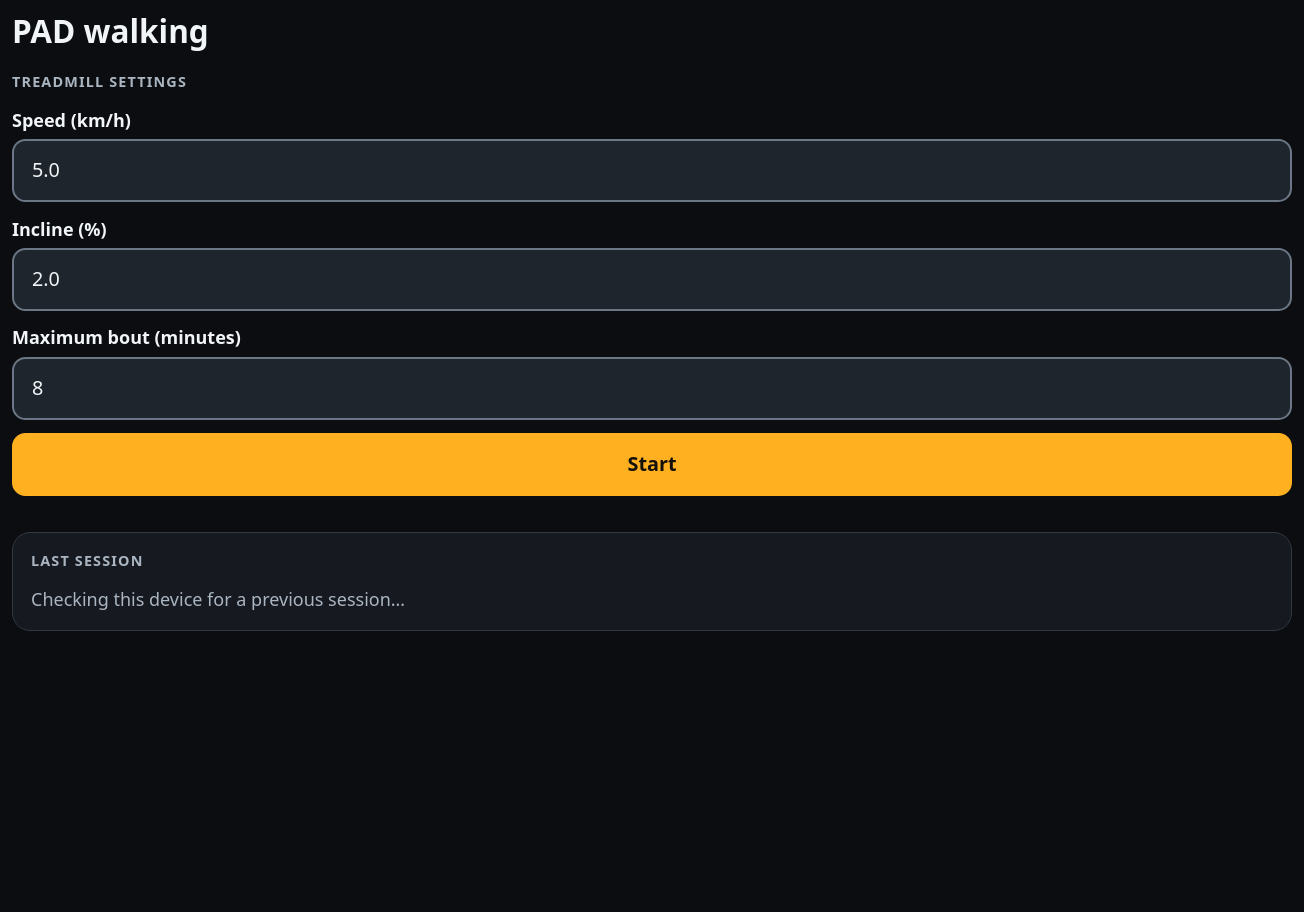
PAD start screen › keeps the settings editable and starts the session with the edited values
The width and height of the screenshot is (1304, 912).
Replace the text in the number field labelled "Speed (km/h)" with "4.2" at (652, 171), box [12,139,1292,202]
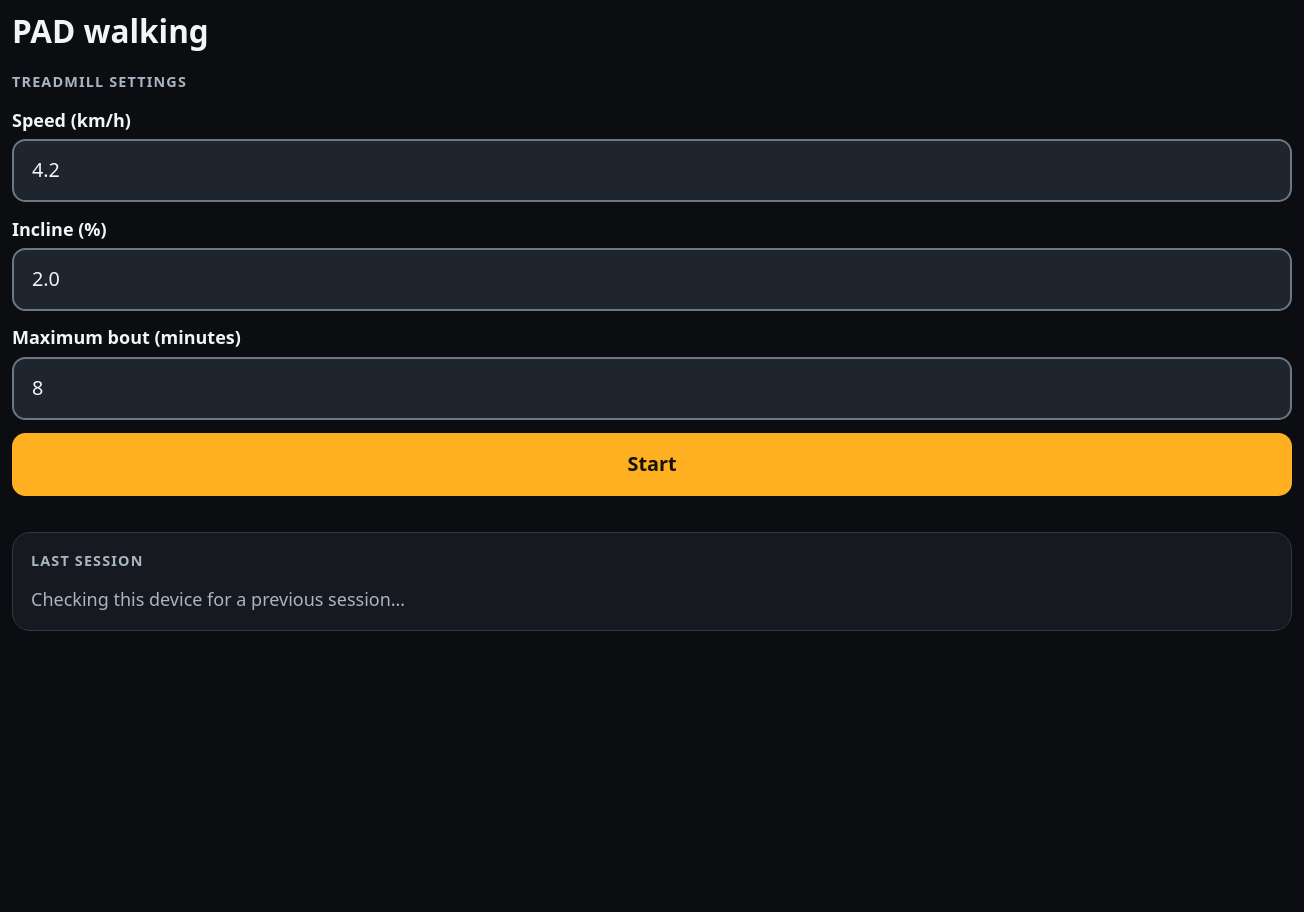
Replace the text in the number field labelled "Maximum bout (minutes)" with "6" at (652, 388), box [12,357,1292,420]
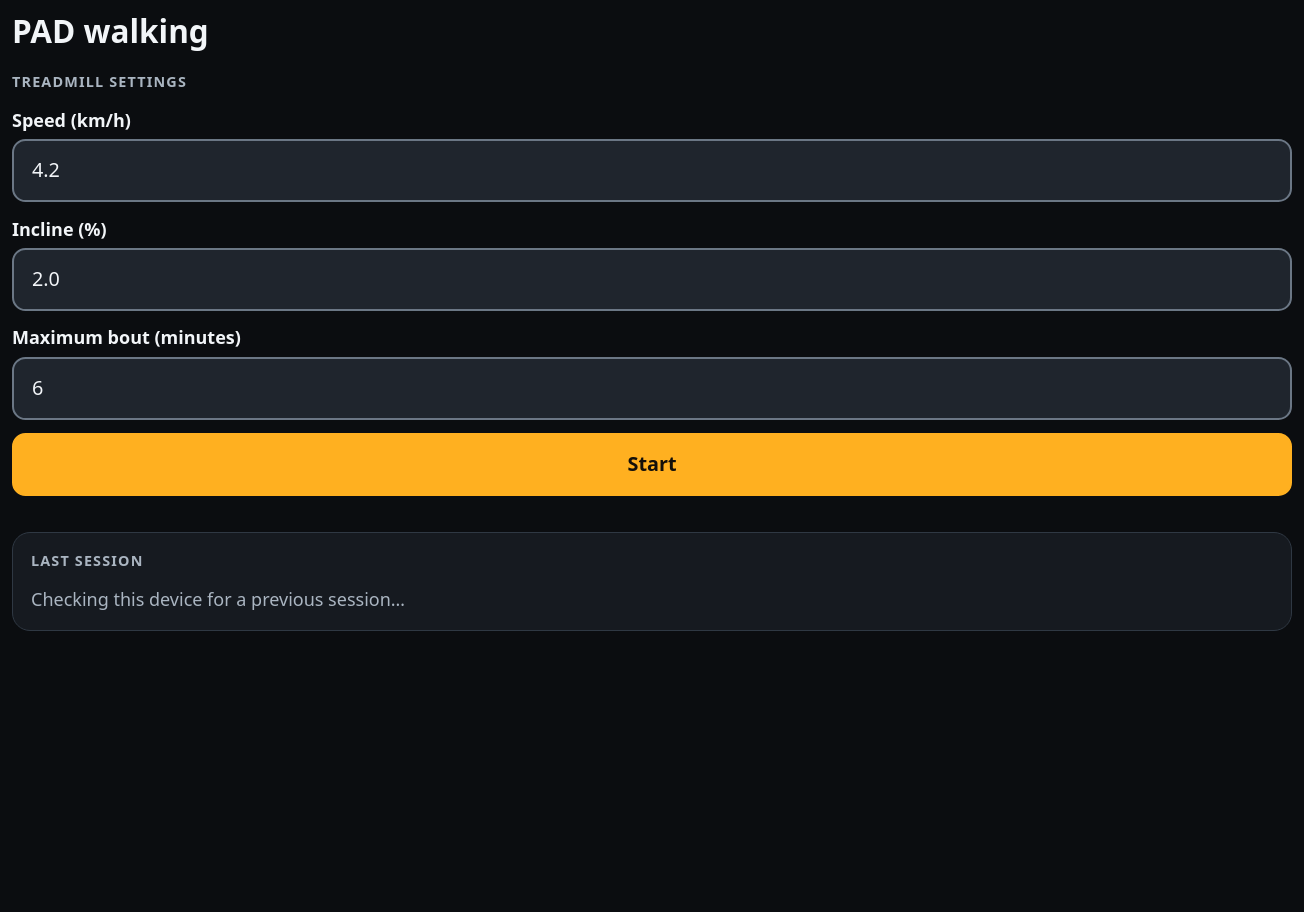
Click the button "Start" at (652, 465), box [12,433,1292,496]
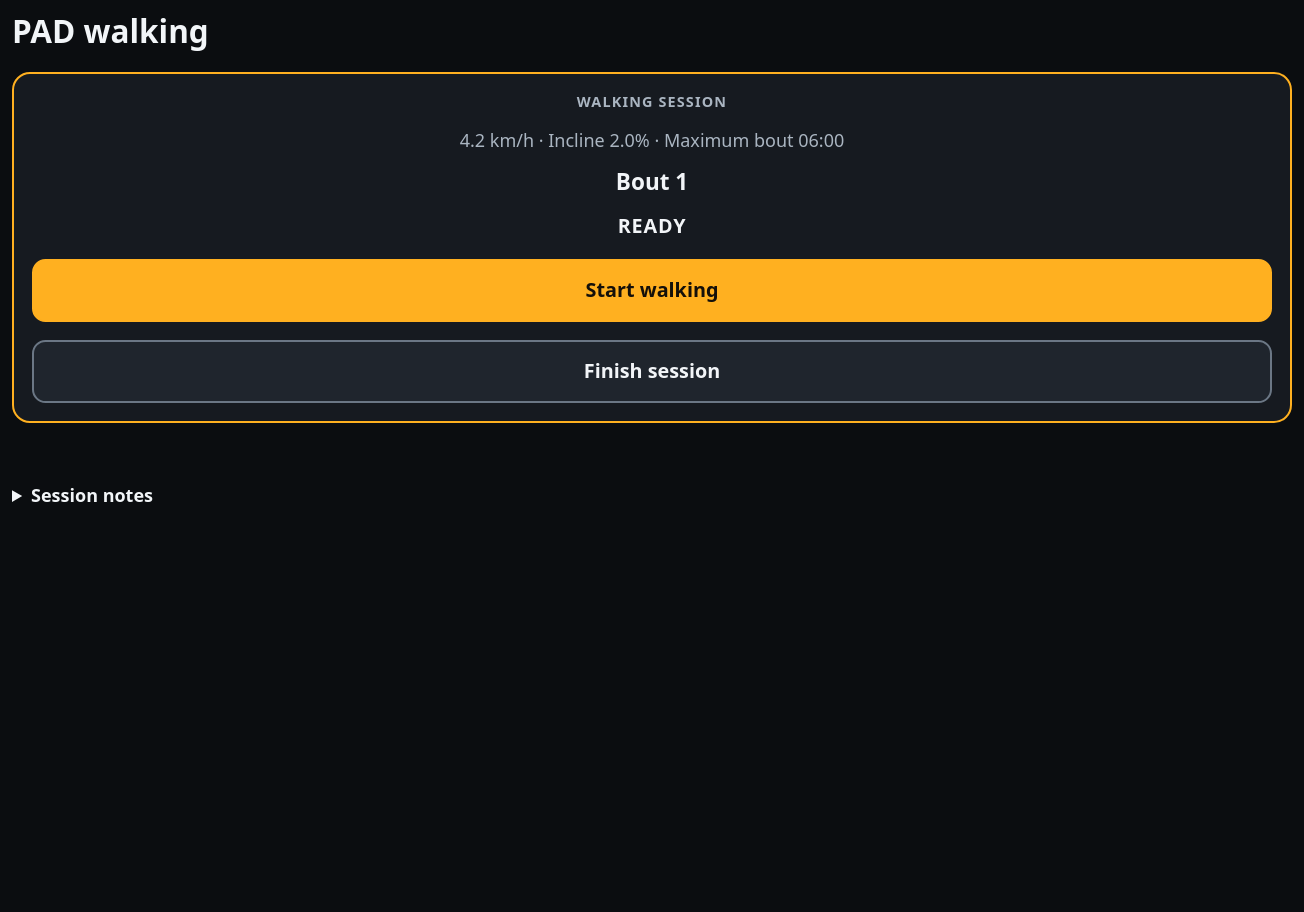
Check: the text "4.2 km/h · Incline 2.0% · Maximum bout 06:00" is shown, box [460,127,844,153]
